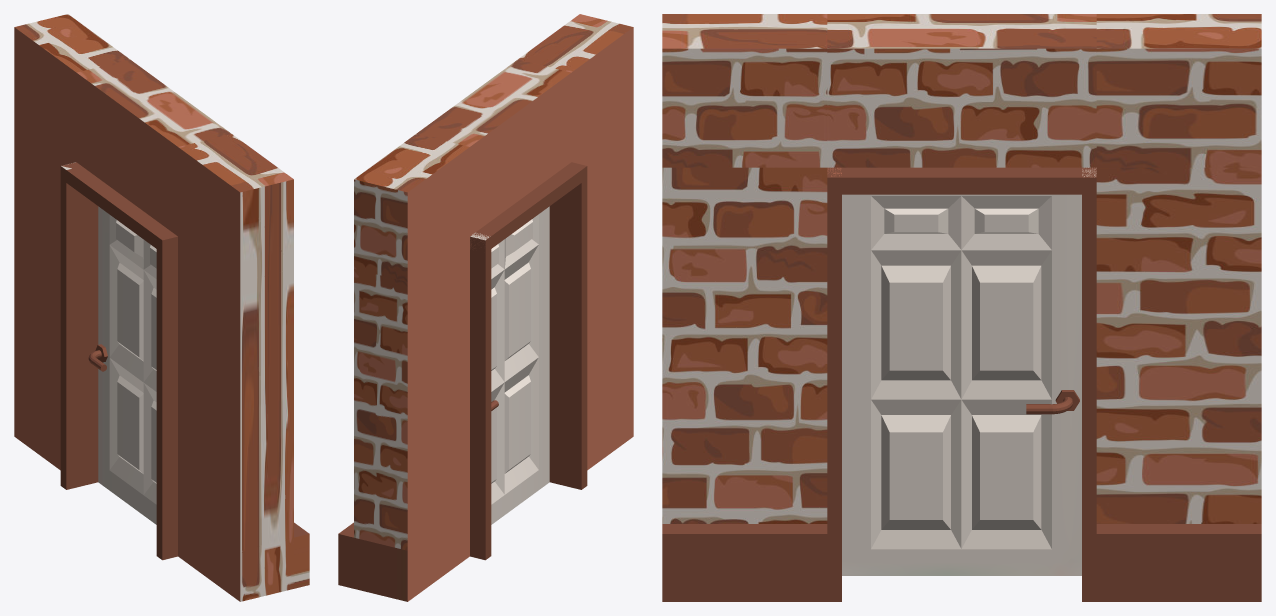
The model's file is kapı.fbx.
3 renders of one model, left to right at view 1: azimuth 30°, elevation 25°; view 2: azimuth 150°, elevation 25°; view 3: azimuth 270°, elevation 25°, orthographic. The views are drawn at different scales.
Parts seen in each view (by area): view 1: e; view 2: e; view 3: e.
Part boxes in pixels (<box>): e: <box>14,14,309,601</box>; e: <box>338,14,633,601</box>; e: <box>662,14,1261,601</box>.
Size of the model in its own units: 87 by 400 by 400.
Materials: 1 (1 with a texture image).
